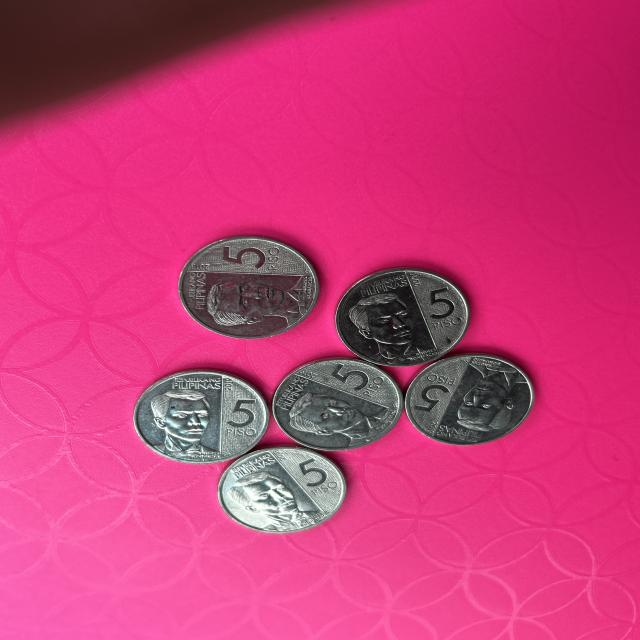5_New_Front: (278, 449, 341, 508), (216, 238, 294, 279), (212, 386, 259, 447), (325, 358, 385, 402), (417, 283, 459, 338), (413, 374, 456, 421)
